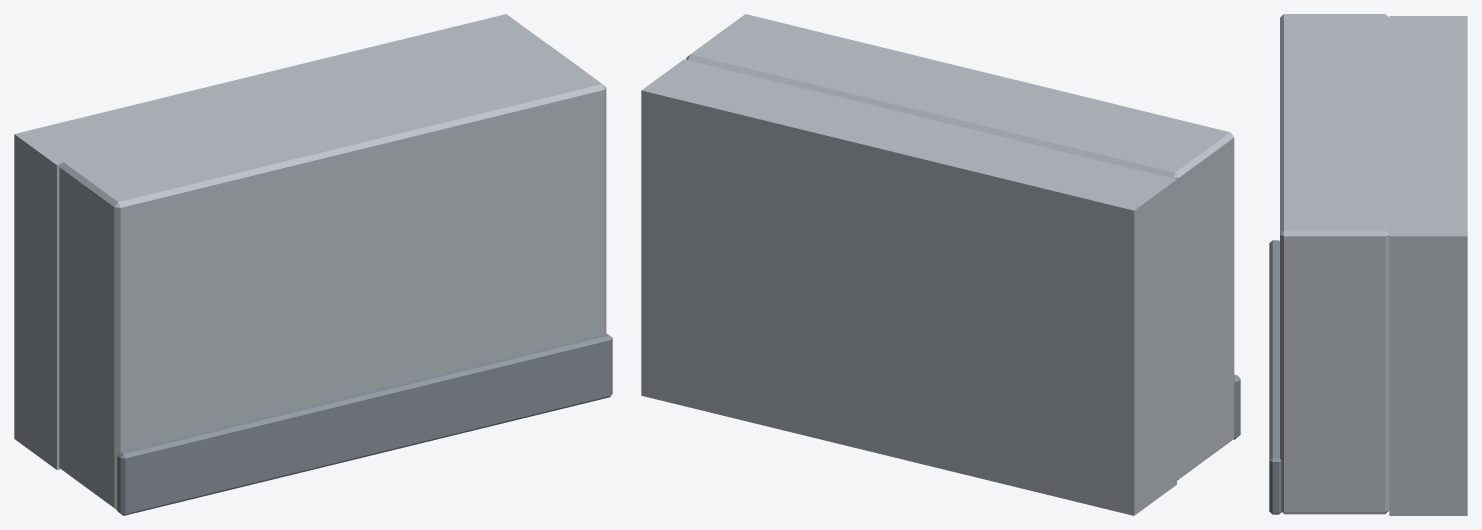
Rendered from soco_h30_0_5m.glb.
3 renders of one model, left to right at view 1: azimuth 30°, elevation 25°; view 2: azimuth 150°, elevation 25°; view 3: azimuth 270°, elevation 25°, orthographic. The views are drawn at different scales.
Parts seen in each view (by area): view 1: soco_h30_0_5m; view 2: soco_h30_0_5m; view 3: soco_h30_0_5m.
Part boxes in pixels (bbox=[...]): soco_h30_0_5m: bbox=[14, 14, 612, 515]; soco_h30_0_5m: bbox=[641, 14, 1240, 515]; soco_h30_0_5m: bbox=[1269, 14, 1467, 515].
Bounding box in the file's own units: 0.5 × 0.3 × 0.19.
Materials: 1 (1 with a texture image).
